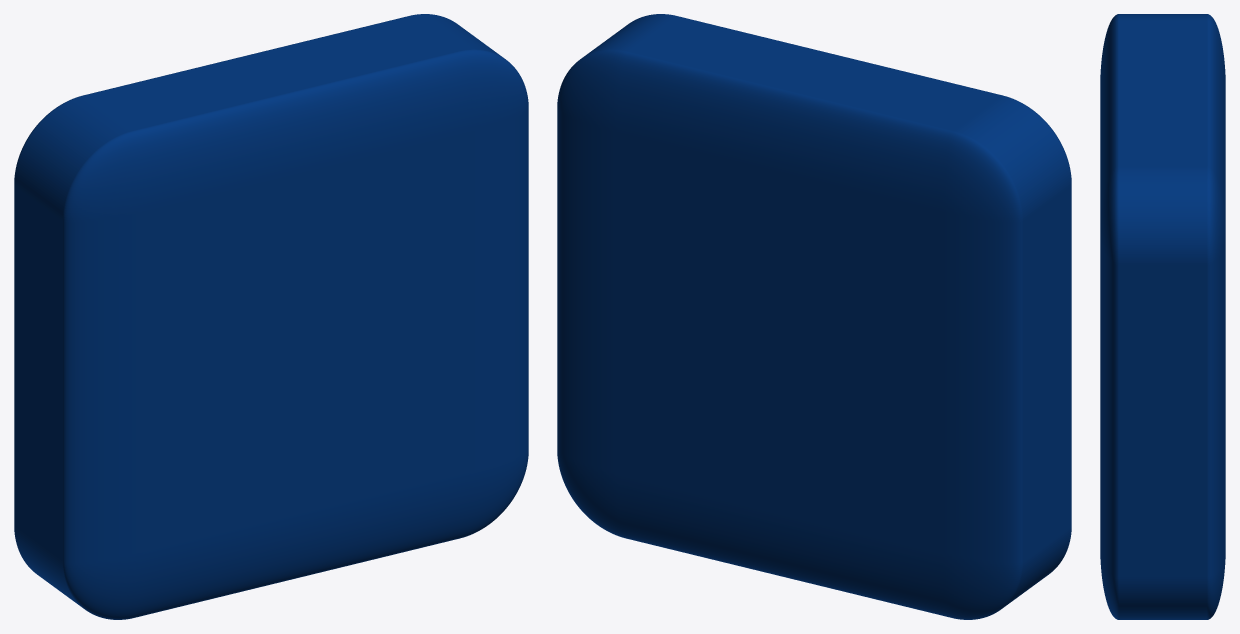
File: buttonRecBlue.gltf
The picture shows the model from 3 angles, left to right: view 1: azimuth 30°, elevation 25°; view 2: azimuth 150°, elevation 25°; view 3: azimuth 270°, elevation 25°; orthographic projection. The views are drawn at different scales.
Parts seen in each view (by area): view 1: Cube; view 2: Cube; view 3: Cube.
Part boxes in pixels (bbox=[...]): Cube: bbox=[14, 14, 528, 619]; Cube: bbox=[557, 14, 1071, 619]; Cube: bbox=[1100, 14, 1225, 619].
Size of the model in its own units: 2 by 2 by 0.51.
